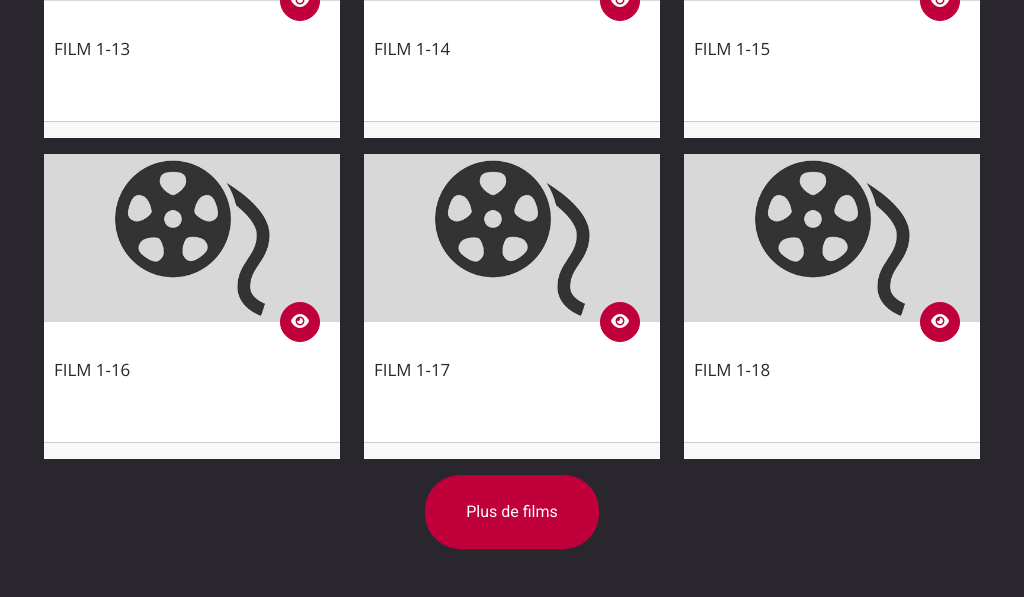
it: Home › charge plus de films jusqu a 49
(page scrolled)
Click the button "Plus de films".
click(512, 512)  # box left=425, top=475, right=599, bottom=549
(page scrolled)
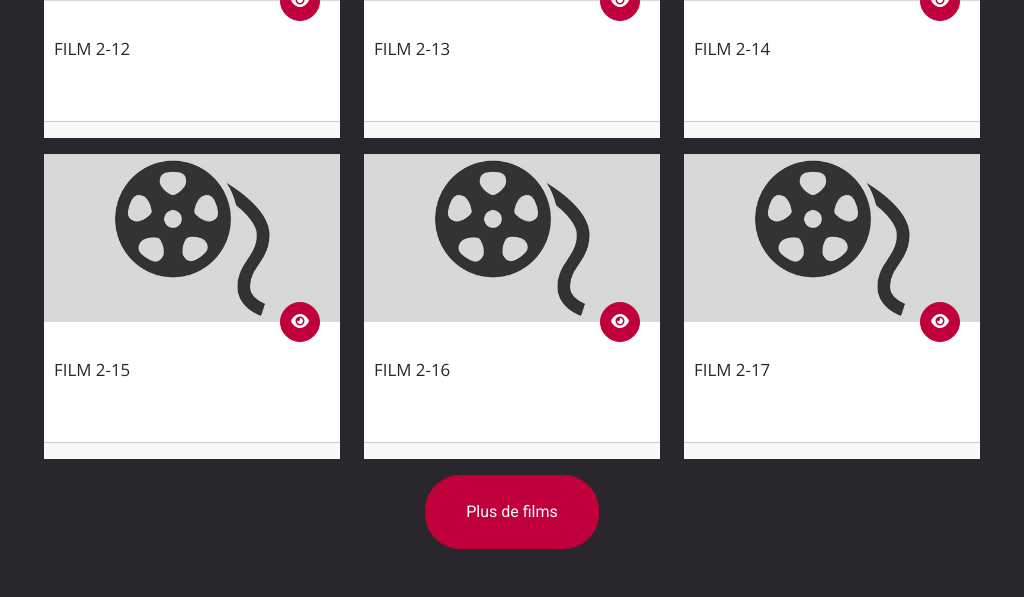
Click the button "Plus de films".
click(512, 512)  # box left=425, top=475, right=599, bottom=549
(page scrolled)
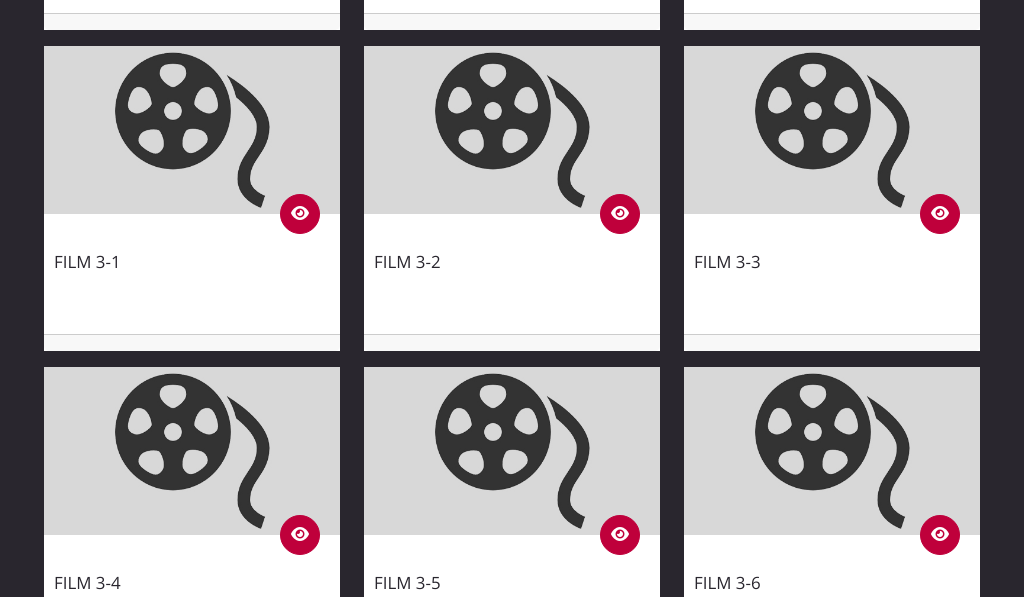
expect the link named "Détail de Film 3-1" is shown: met, box left=280, top=194, right=320, bottom=234
expect the button "Plus de films" is gone: met
